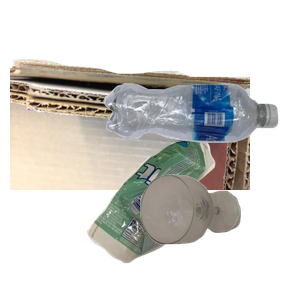cardboard: (10, 57, 250, 237)
glass: (138, 172, 300, 300)
plastic: (102, 81, 300, 216)
trash: (84, 133, 292, 300)
